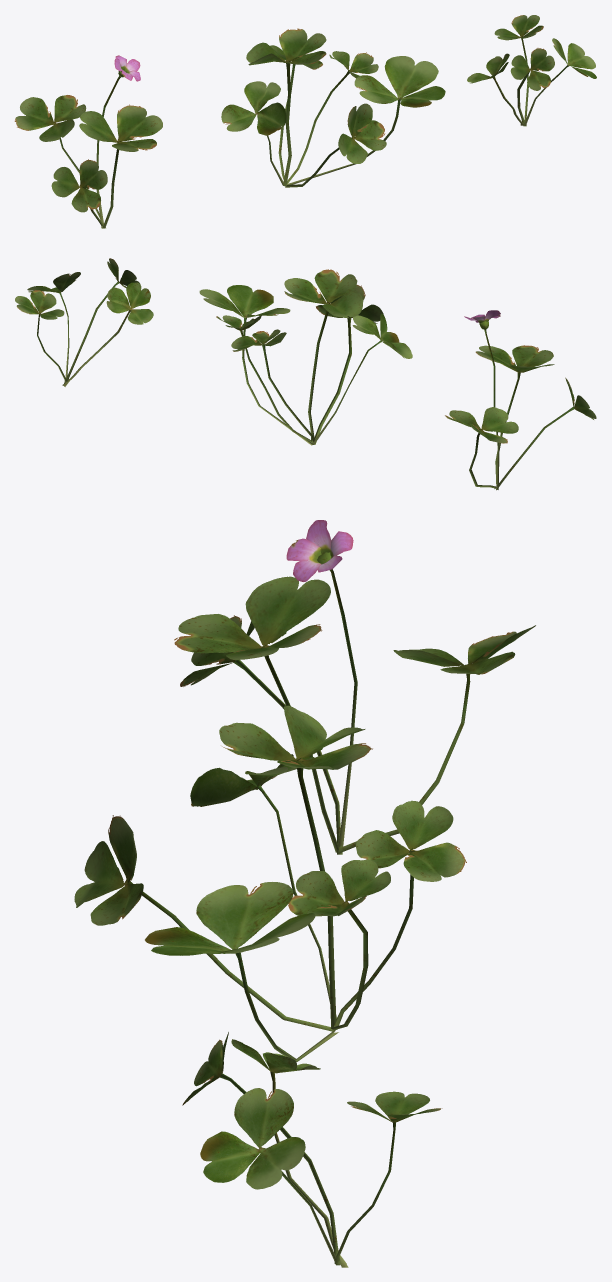
Rendered from sorrel.glb.
The picture shows the model from 3 angles, top to bottom: view 1: azimuth 30°, elevation 25°; view 2: azimuth 150°, elevation 25°; view 3: azimuth 270°, elevation 25°; orthographic projection. The views are drawn at different scales.
Parts seen in each view (by area): view 1: shrub_sorrel_01_b; view 2: shrub_sorrel_01_b; view 3: shrub_sorrel_01_b.
Boxes of the visible parts, x1,y1,x2,y2 form: shrub_sorrel_01_b: [14, 15, 596, 228]; shrub_sorrel_01_b: [15, 258, 596, 490]; shrub_sorrel_01_b: [74, 520, 535, 1267].
Bounding box in the file's own units: 0.1892 × 0.0568 × 0.0698.
1 material, 1 textured.
